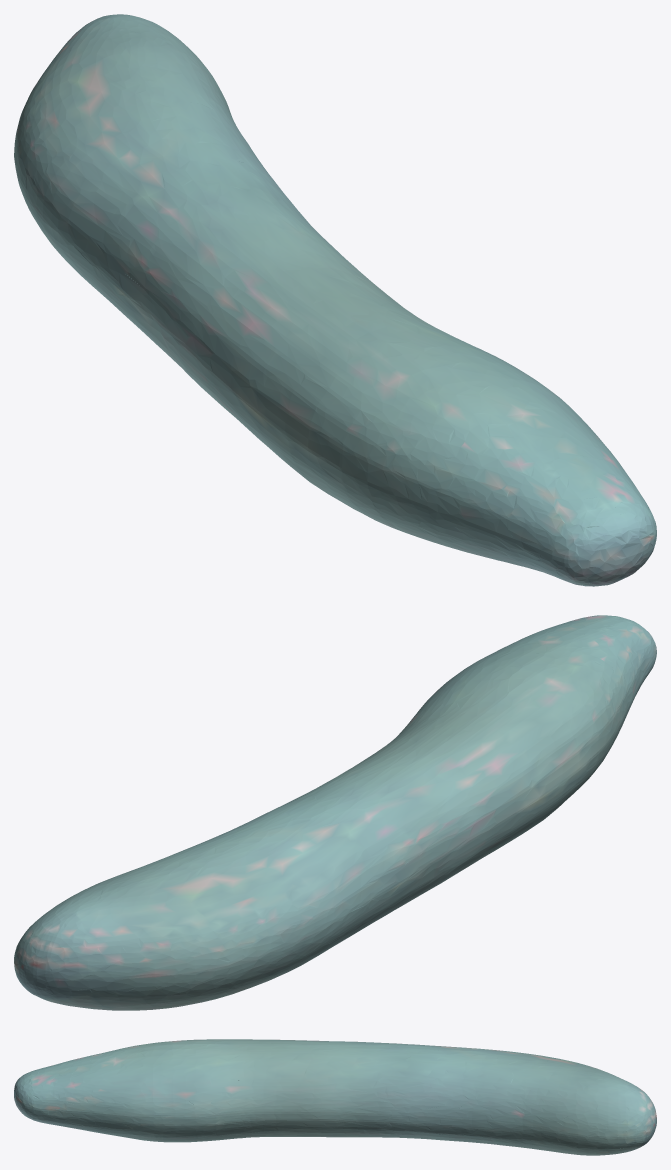
The model's file is 5_mesh_cousin_06.glb.
3 renders of one model, top to bottom at view 1: azimuth 30°, elevation 25°; view 2: azimuth 150°, elevation 25°; view 3: azimuth 270°, elevation 25°, orthographic. The views are drawn at different scales.
Visible parts, largest first — view 1: geometry_0; view 2: geometry_0; view 3: geometry_0.
Boxes of the visible parts, x1=… form: geometry_0: x1=14, y1=14, x2=656, y2=586; geometry_0: x1=14, y1=615, x2=656, y2=1010; geometry_0: x1=14, y1=1039, x2=656, y2=1155.
Bounding box in the file's own units: 0.2408 × 0.1281 × 0.8945.
